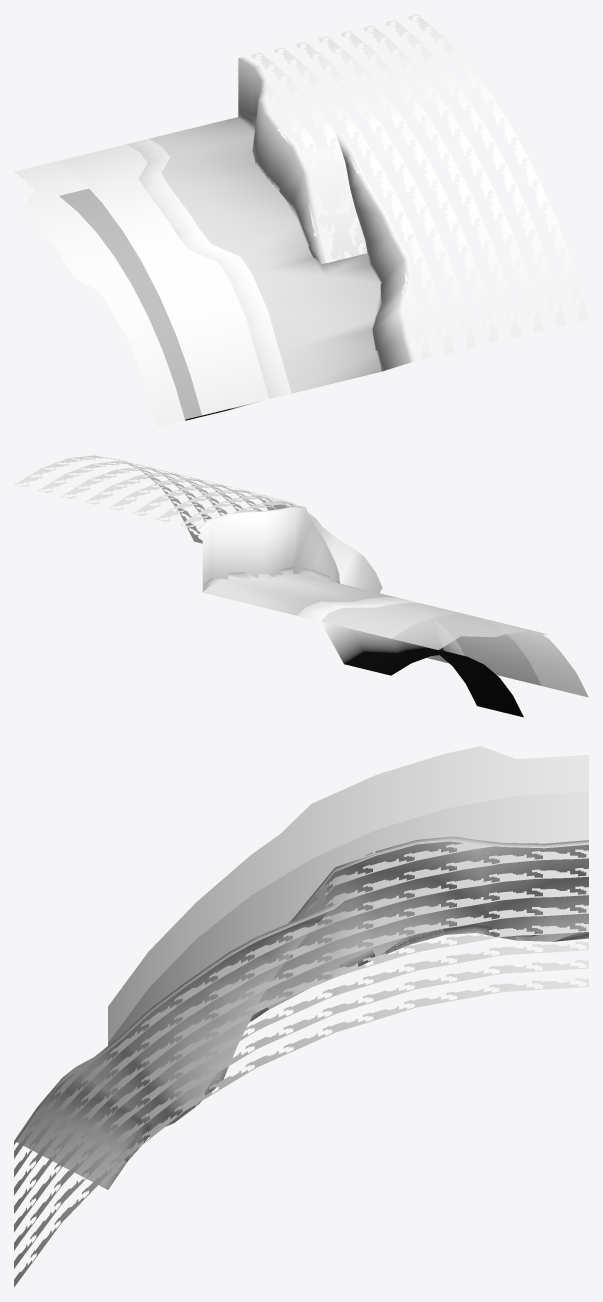
File: grd_Mw_S_1.dae
3 views of the same model, one above another, from view 1: azimuth 30°, elevation 25°; view 2: azimuth 150°, elevation 25°; view 3: azimuth 270°, elevation 25° (orthographic). The views are drawn at different scales.
Visible parts, largest first — view 1: grd_Mw_S_1; view 2: grd_Mw_S_1; view 3: grd_Mw_S_1.
Part boxes in pixels (x1=…): grd_Mw_S_1: x1=14, y1=14, x2=588, y2=426; grd_Mw_S_1: x1=14, y1=455, x2=588, y2=717; grd_Mw_S_1: x1=14, y1=746, x2=588, y2=1287.
Bounding box in the file's own units: 608 × 308 × 423.
7 materials, 1 textured.
